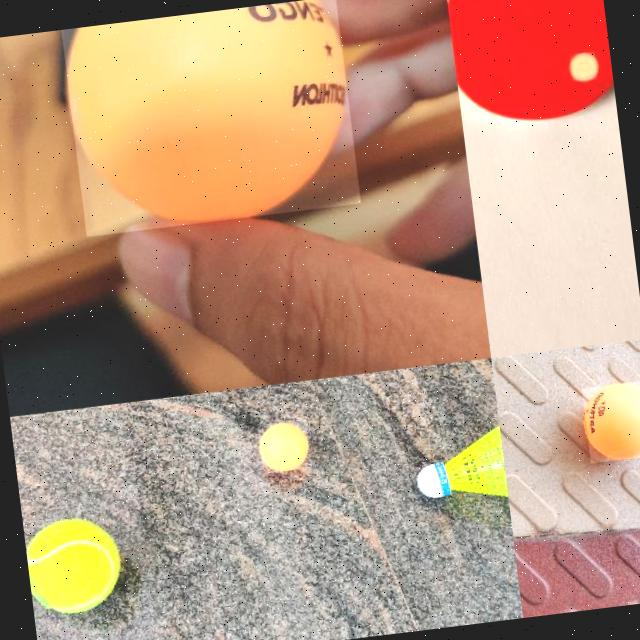ping-pong-ball: (59, 0, 361, 239), (580, 379, 640, 463), (256, 419, 311, 474), (567, 51, 598, 82)
